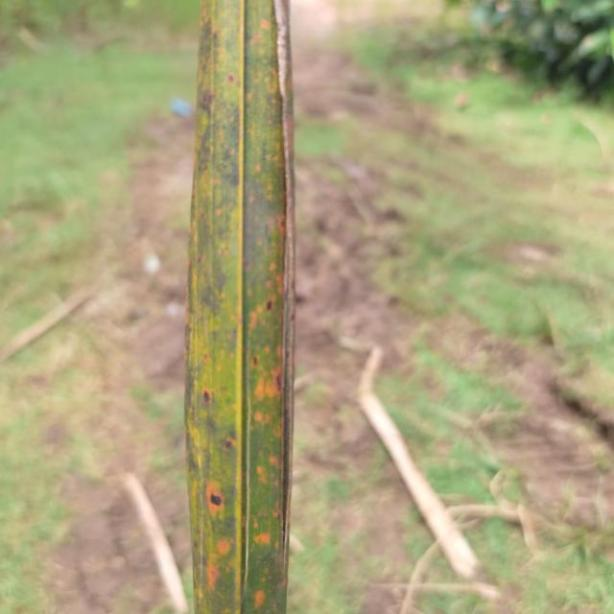Kalium: (180, 0, 292, 614)
